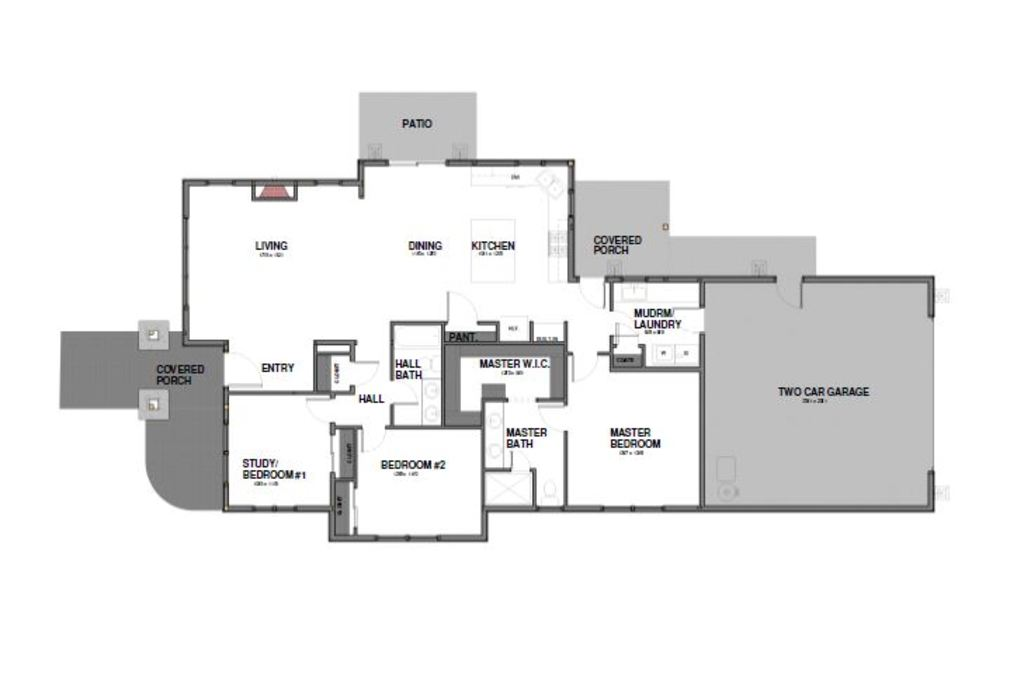door: (437, 288, 485, 331), (222, 351, 273, 391), (766, 267, 806, 309), (530, 400, 573, 431), (305, 392, 339, 429), (566, 351, 599, 384), (672, 303, 707, 334), (575, 275, 606, 307), (388, 378, 419, 407), (348, 360, 381, 387), (610, 310, 639, 338), (356, 426, 385, 452)
large_sink: (537, 470, 566, 509)
small_sink: (485, 401, 505, 464), (419, 375, 439, 426)
twin_sink: (534, 166, 572, 198)
window: (382, 154, 444, 172)
